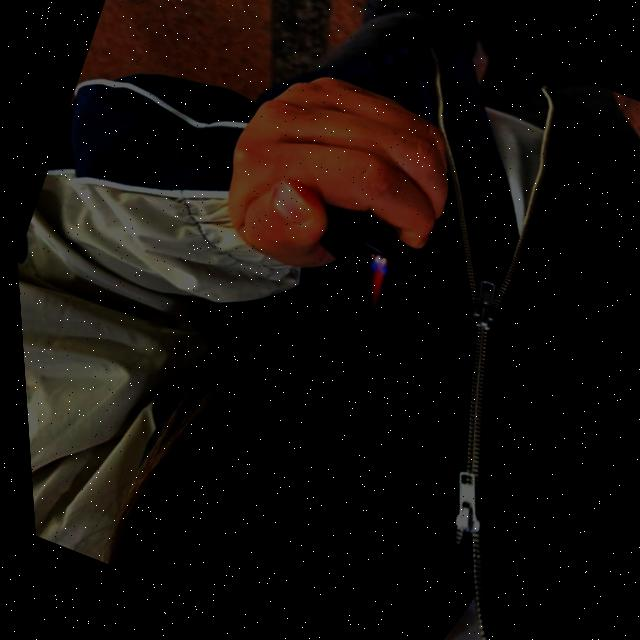Fire: (345, 251, 395, 325)
